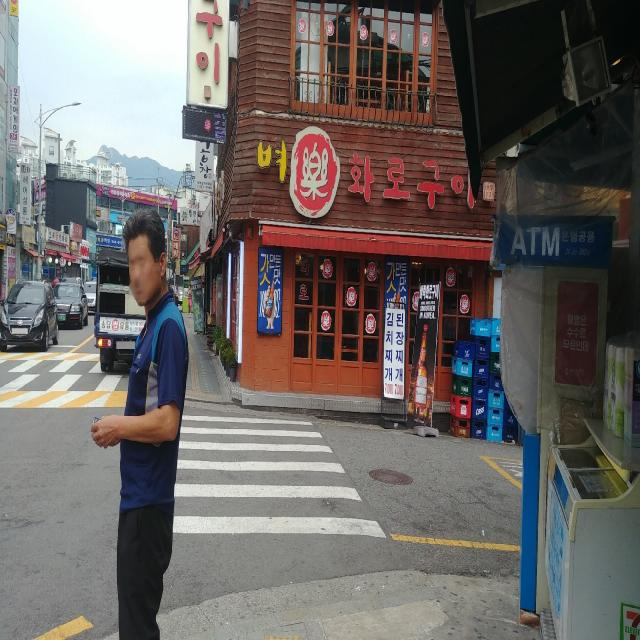횡단보도: (172, 413, 387, 540), (0, 351, 123, 403)
